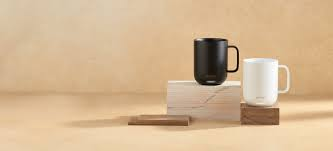cup: (242, 56, 297, 108), (191, 32, 242, 87)
